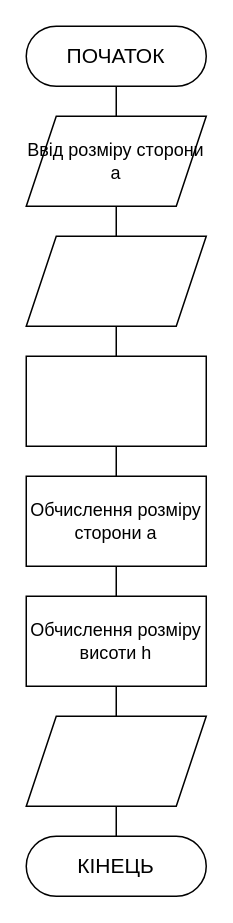
This 233x923 diagram has some shape labels left out. The centre of each missing label's shape, as x and y in pixels:
Ввід значення кута alpha у градусах: point (115, 280)
Вивід значень а та h: point (115, 760)
Переведення alpha у радіани: point (115, 400)
